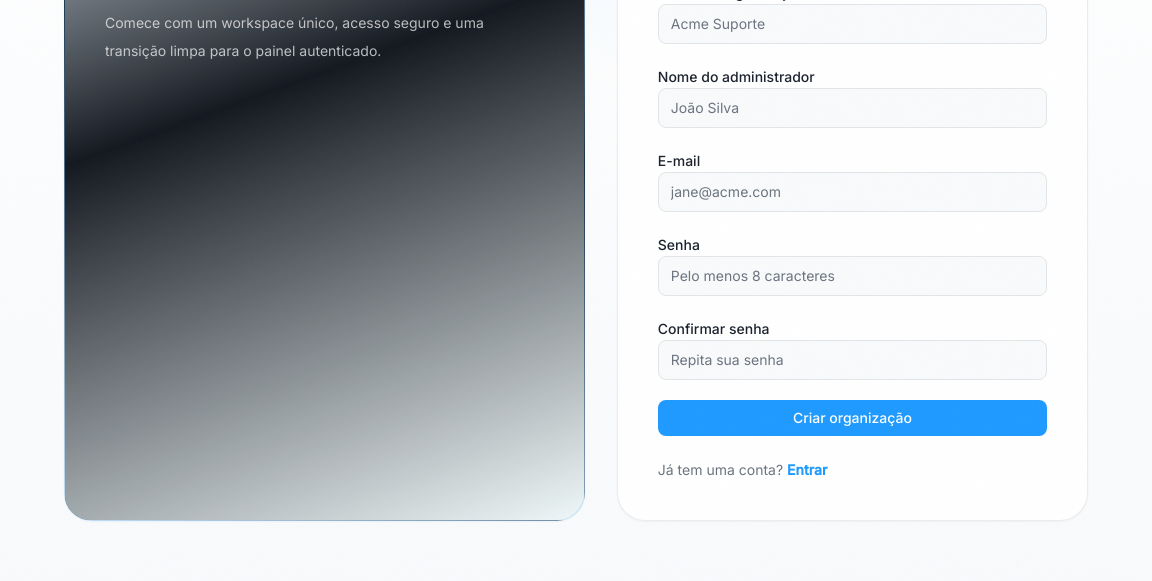
Scenario: SignupPage › shows validation errors when required fields are empty
The width and height of the screenshot is (1152, 581).
(page scrolled)
Click the button "Criar organização" at x=852, y=418, box [658,400,1047,436]
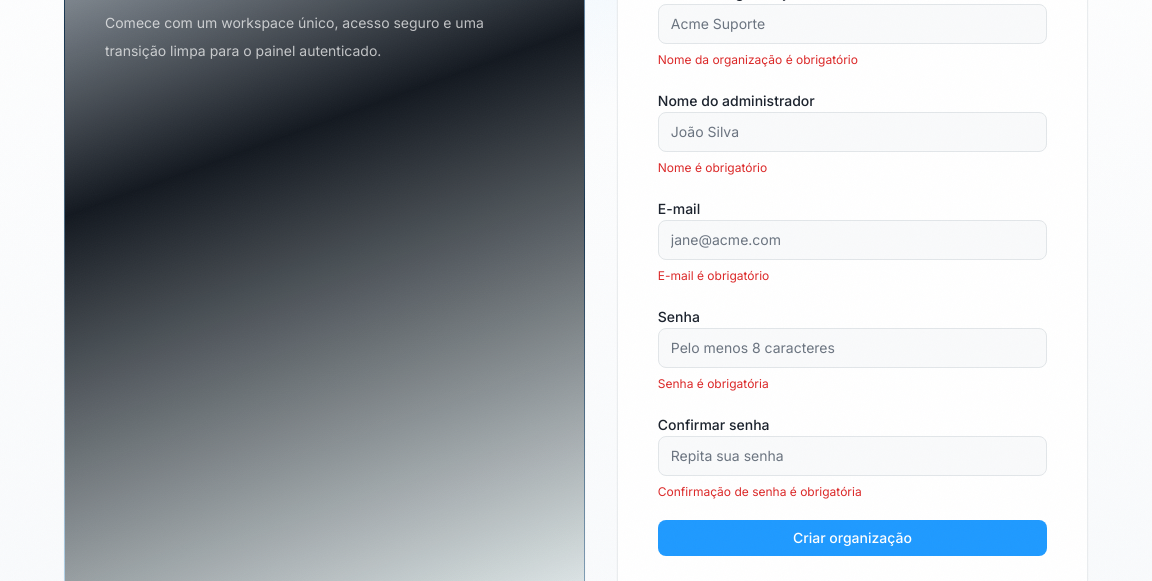
Expected: the text "Nome da organização é obrigatório" is shown, [658,52,858,66]
Expected: the text "Nome é obrigatório" is shown, [658,160,767,174]
Expected: the text "E-mail é obrigatório" is shown, [658,268,769,282]
